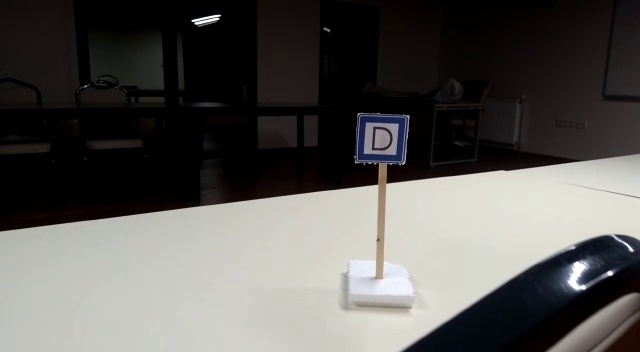durak: (354, 114, 409, 163)
